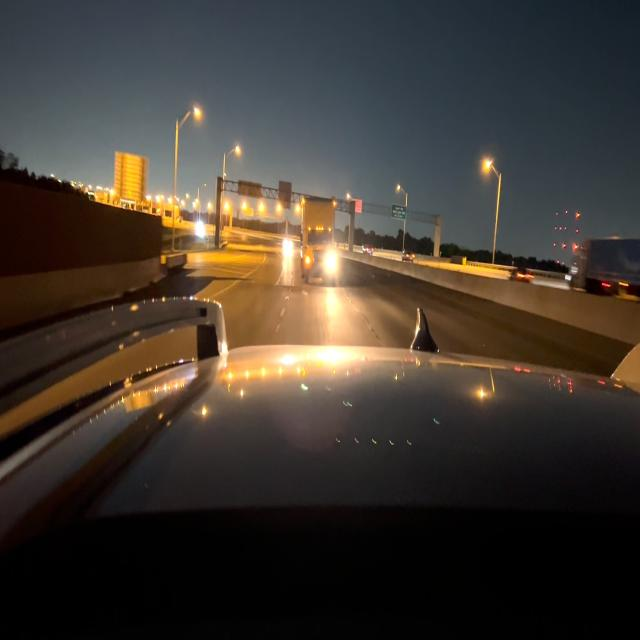back-of-sign: (114, 153, 147, 201)
